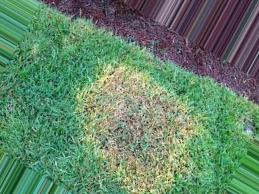patch: (98, 69, 175, 166)
